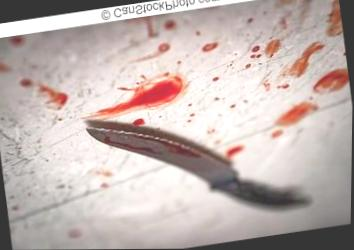Fire: (82, 72, 189, 119), (83, 73, 189, 119), (281, 42, 326, 78), (282, 42, 326, 78), (276, 102, 320, 128), (313, 69, 349, 93), (39, 84, 68, 110), (126, 16, 159, 38), (131, 43, 171, 61), (134, 43, 171, 62), (39, 85, 68, 108), (327, 0, 343, 37), (251, 40, 281, 59), (267, 40, 282, 58), (267, 40, 281, 58), (227, 146, 244, 158), (201, 42, 219, 53), (89, 171, 114, 177), (252, 46, 262, 59), (10, 35, 24, 44), (203, 43, 218, 51), (272, 129, 284, 139), (20, 78, 33, 87), (0, 62, 10, 73), (165, 20, 176, 29), (263, 80, 272, 91), (158, 43, 169, 52), (133, 118, 145, 125), (278, 84, 290, 90), (189, 113, 195, 124), (100, 183, 110, 188), (195, 30, 201, 37), (208, 129, 216, 134), (145, 99, 150, 106), (212, 77, 219, 82), (245, 64, 252, 69), (265, 82, 270, 89), (188, 103, 193, 110), (271, 42, 275, 49), (117, 87, 124, 91), (163, 73, 169, 77), (177, 60, 181, 66), (255, 46, 261, 50), (230, 104, 236, 108), (12, 206, 18, 210), (145, 94, 150, 98), (278, 41, 282, 46), (281, 18, 286, 22), (112, 110, 116, 114), (244, 100, 248, 104), (100, 111, 103, 116), (231, 61, 234, 66), (141, 76, 146, 79)
